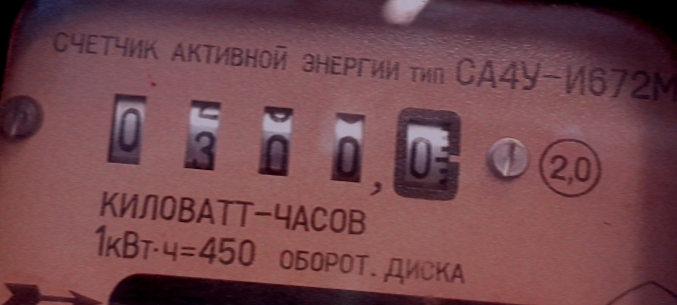0: (115, 104, 145, 158), (260, 131, 291, 181), (405, 135, 436, 185), (331, 135, 363, 183)
3: (188, 128, 219, 173)
screen: (85, 77, 473, 213)
